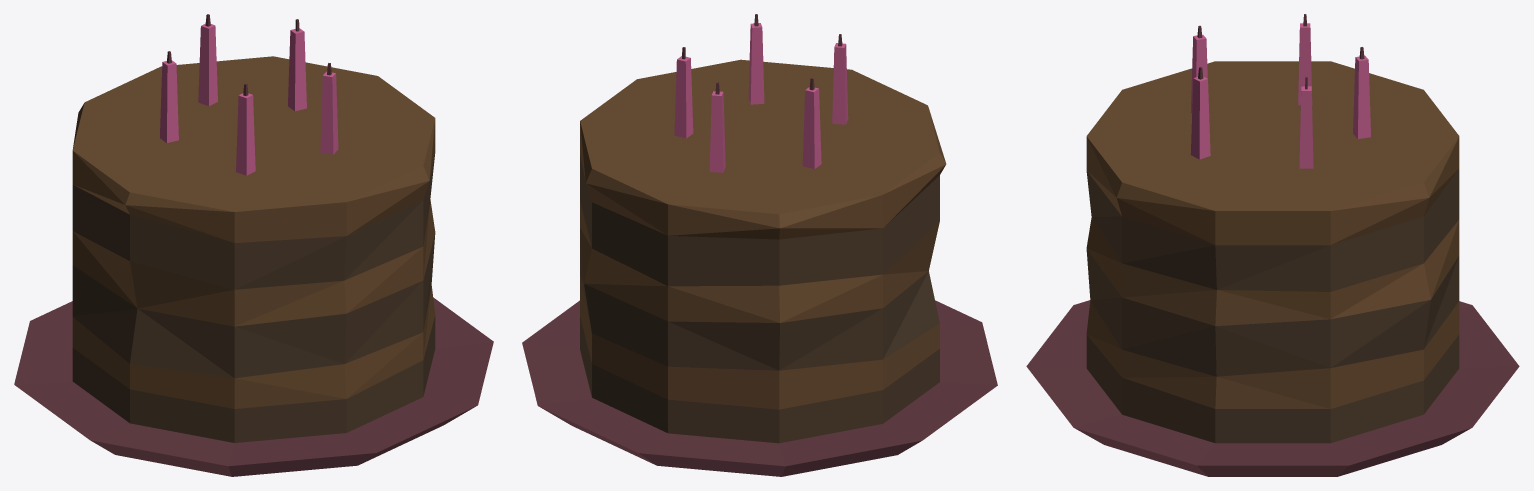
Rendered from props-cake-birthday.glb.
The picture shows the model from 3 angles, left to right: view 1: azimuth 30°, elevation 25°; view 2: azimuth 150°, elevation 25°; view 3: azimuth 270°, elevation 25°; orthographic projection.
Parts seen in each view (by area): view 1: cake-birthday; view 2: cake-birthday; view 3: cake-birthday.
Boxes of the visible parts, x1,y1,x2,y2 form: cake-birthday: (14, 14, 493, 476); cake-birthday: (522, 14, 997, 476); cake-birthday: (1026, 14, 1519, 476).
Bounding box in the file's own units: 0.4783 × 0.3882 × 0.503.
